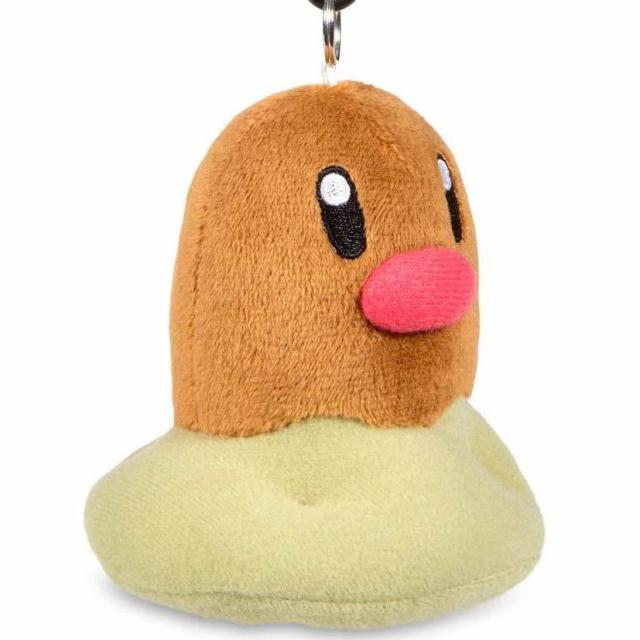Diglett: (162, 83, 480, 499)
